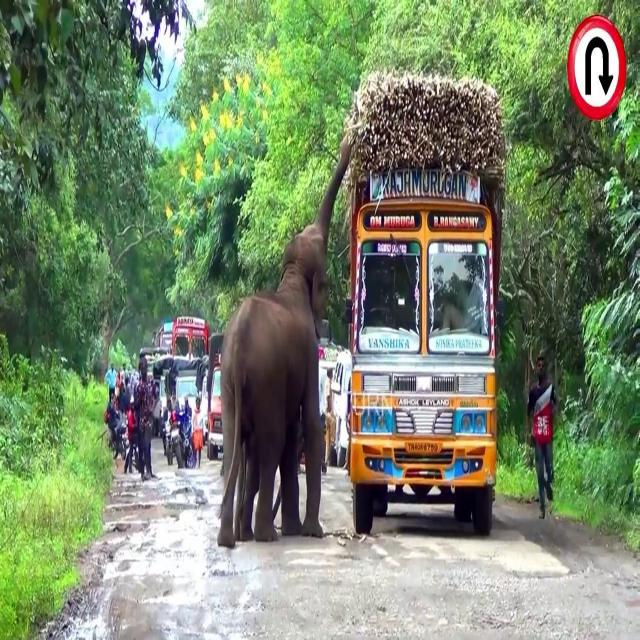Elephant: (217, 136, 351, 548)
